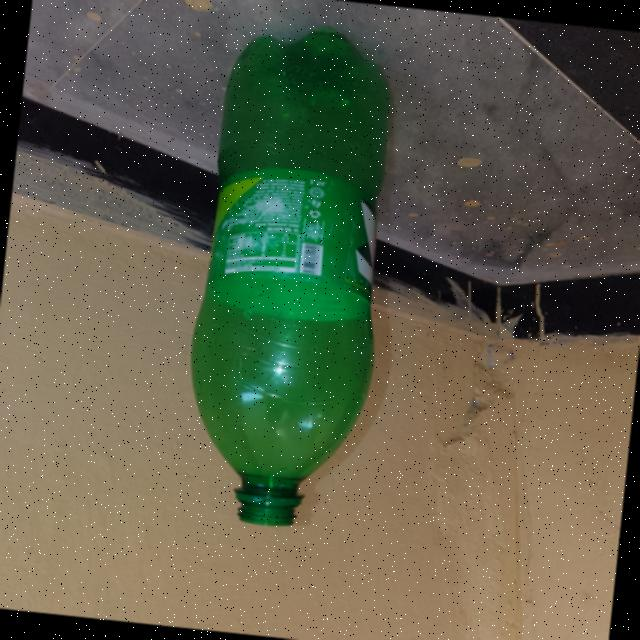bottle: (160, 9, 435, 554)
label: (218, 157, 388, 300)
